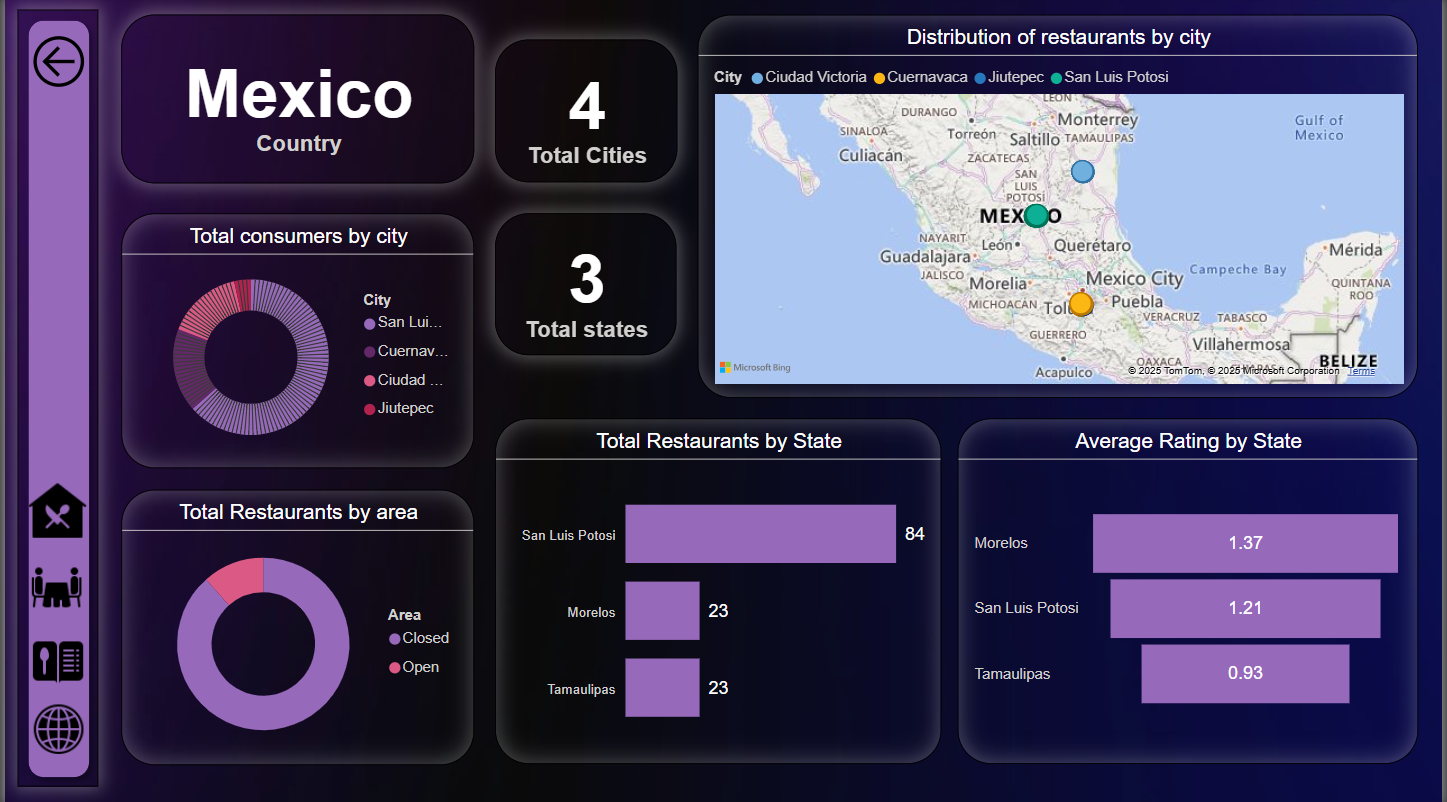

What the dashboard file says about the page in this screenshot:
{"tool":"powerbi","page":{"name":"Locations","canvas":[1280,720],"ordinal":3},"visuals":[{"type":"donutChart","title":"Total consumers by city","fields":{"Category":["consumers.City"],"Series":["consumers.Consumer_ID"],"Y":["CountNonNull(consumers.Consumer_ID)"]},"box":[103.3,192.5,314.6,227],"z":0},{"type":"shape","box":[11,11,72,691.8],"z":1000},{"type":"card","fields":{"Values":["Min(dim_restaurants.Country)"]},"box":[103.3,15.7,314.6,150.3],"z":2000},{"type":"donutChart","title":"Total Restaurants by area","fields":{"Y":["CountNonNull(dim_restaurants.Restaurant_ID)"],"Category":["dim_restaurants.Area"]},"box":[103.3,438.3,314.6,245.7],"z":3000},{"type":"map","title":"Distribution of restaurants by city","fields":{"Size":["Measures (2).Total_restaurants"],"Y":["dim_restaurants.Latitude"],"X":["dim_restaurants.Longitude"],"Series":["dim_restaurants.City"]},"box":[616.7,15.7,641.7,341.2],"z":4000},{"type":"barChart","title":"Total Restaurants by State","fields":{"Y":["CountNonNull(dim_restaurants.Restaurant_ID)"],"Category":["dim_restaurants.State"]},"box":[436.7,375.7,397.6,308.3],"z":5000},{"type":"funnel","title":"Average Rating by State","fields":{"Category":["dim_restaurants.State"],"Y":["Measures (2).Avg_of_overall_Rating"]},"box":[848.3,375.7,410.1,308.3],"z":6000},{"type":"image","box":[15.7,421,62.6,75.1],"z":7000},{"type":"image","box":[18.8,619.8,57.9,64.2],"z":8000},{"type":"image","box":[15.7,496.2,61,57.9],"z":9000},{"type":"image","box":[20.3,565,54.8,54.8],"z":10000},{"type":"actionButton","box":[18.8,25,57.9,65.7],"z":11000},{"type":"card","fields":{"Values":["Measures (2).Total_cities"]},"box":[436.2,38.1,162.4,127.1],"z":12000},{"type":"card","fields":{"Values":["Measures (2).Total_states"]},"box":[436.7,192.5,161.2,126.8],"z":13000}]}

Visuals, with their boxes in screenshot pixels (x1, y1, x2, y2), scaled from the page's 1280x720 canvas onto the 1447x802 screenshot:
"Total consumers by city" donutChart: [117, 214, 472, 467]
shape: [12, 12, 94, 783]
card - Min(dim_restaurants.Country): [117, 17, 472, 185]
"Total Restaurants by area" donutChart: [117, 488, 472, 762]
"Distribution of restaurants by city" map: [697, 17, 1423, 398]
"Total Restaurants by State" barChart: [494, 418, 943, 762]
"Average Rating by State" funnel: [959, 418, 1423, 762]
image: [18, 469, 89, 553]
image: [21, 690, 87, 762]
image: [18, 553, 87, 617]
image: [23, 629, 85, 690]
actionButton: [21, 28, 87, 101]
card - Measures (2).Total_cities: [493, 42, 677, 184]
card - Measures (2).Total_states: [494, 214, 676, 356]
